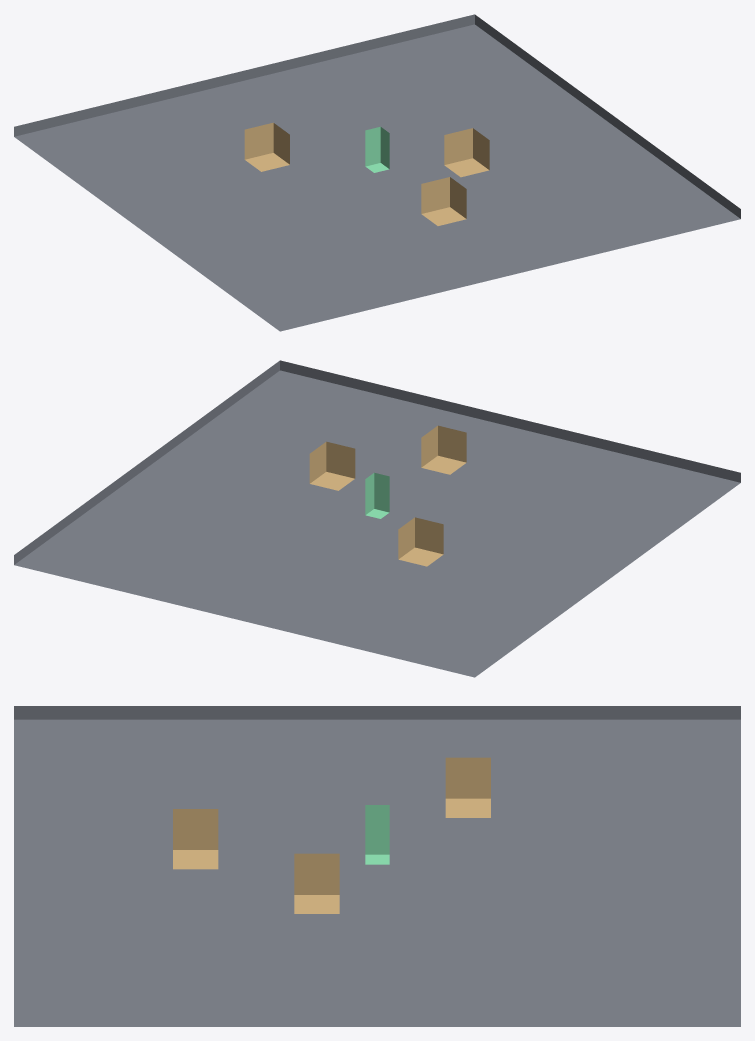
File: arena.glb
3 renders of one model, top to bottom at view 1: azimuth 30°, elevation 25°; view 2: azimuth 150°, elevation 25°; view 3: azimuth 270°, elevation 25°, orthographic. The views are drawn at different scales.
Visible parts, largest first — view 1: Floor, Crate3, Crate1, Crate2, Player; view 2: Floor, Crate2, Crate1, Crate3, Player; view 3: Floor, Crate2, Crate1, Crate3, Player.
Boxes of the visible parts, x1,y1,x2,y2 form: Floor: (14, 14, 740, 331); Crate3: (421, 177, 466, 225); Crate1: (244, 122, 289, 171); Crate2: (444, 128, 489, 177); Player: (365, 126, 389, 172); Floor: (14, 360, 740, 677); Crate2: (309, 441, 355, 490); Crate1: (398, 517, 443, 566); Crate3: (421, 425, 466, 474); Player: (365, 472, 389, 518); Floor: (14, 706, 740, 1026); Crate2: (294, 853, 339, 913); Crate1: (445, 757, 490, 817); Crate3: (173, 809, 218, 869); Player: (365, 805, 389, 864).
Bounding box in the file's own units: 24 × 2.3 × 24.
